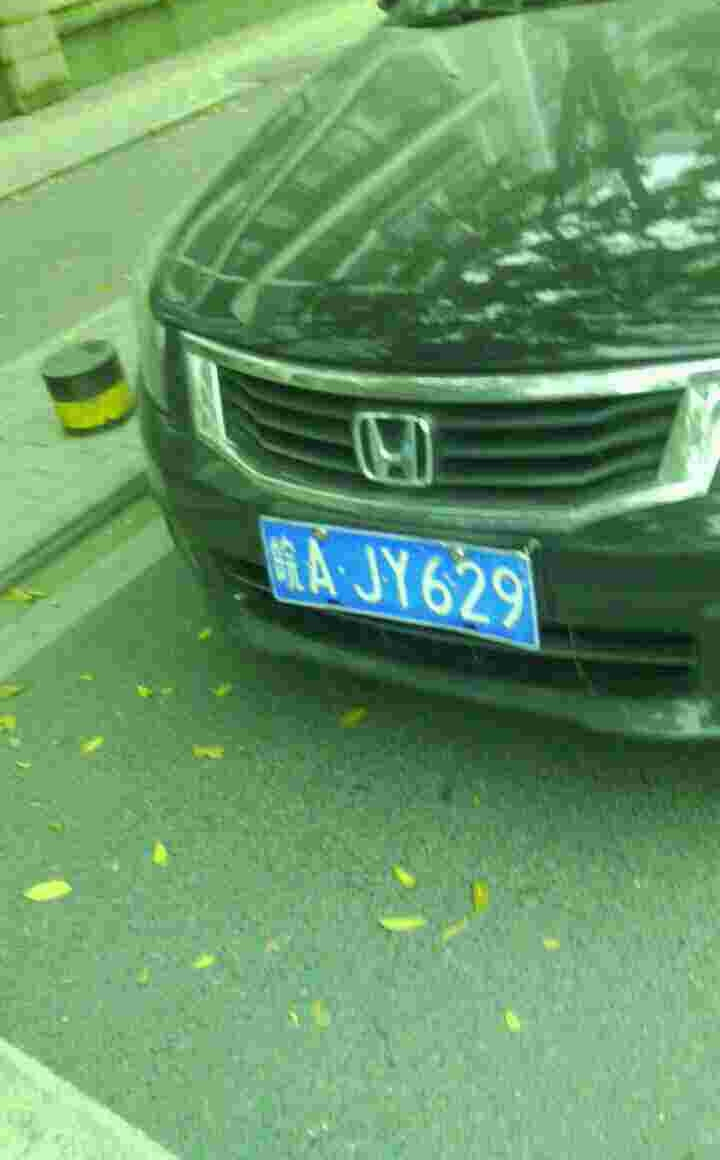license_plate: (261, 516, 538, 641)
